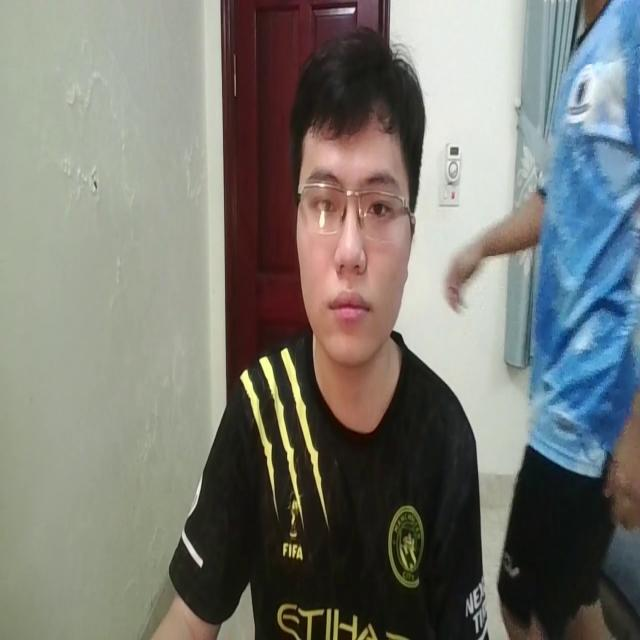extra_person: (471, 1, 640, 640)
student: (139, 28, 478, 640)
